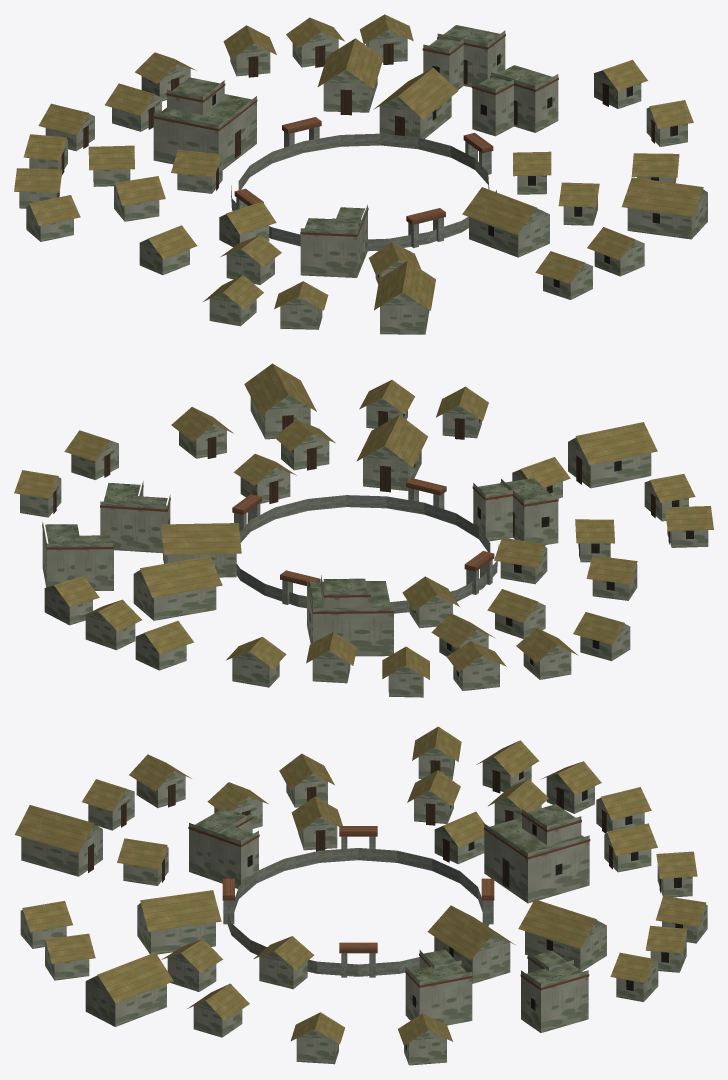
Rendered from ae_jungle_neighbourhood_stone_lod1.glb.
3 views of the same model, one above another, from view 1: azimuth 30°, elevation 25°; view 2: azimuth 150°, elevation 25°; view 3: azimuth 270°, elevation 25° (orthographic). The views are drawn at different scales.
Visible parts, largest first — view 1: ae_jungle_neighbourhood_stone_lod1; view 2: ae_jungle_neighbourhood_stone_lod1; view 3: ae_jungle_neighbourhood_stone_lod1.
Boxes of the visible parts, <box> form: ae_jungle_neighbourhood_stone_lod1: <box>14,14,707,334</box>; ae_jungle_neighbourhood_stone_lod1: <box>14,363,713,697</box>; ae_jungle_neighbourhood_stone_lod1: <box>14,726,707,1065</box>.
Bounding box in the file's own units: 1.89 × 0.1882 × 1.82.
Materials: 1 (1 with a texture image).
